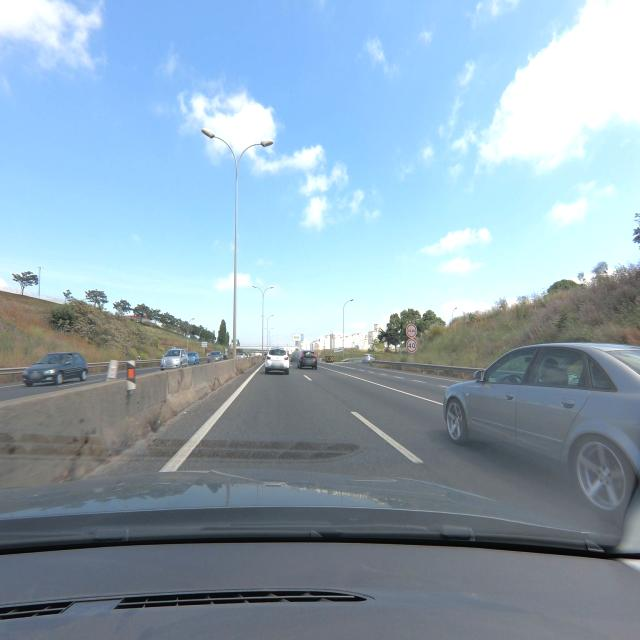car: (442, 341, 640, 514), (21, 351, 89, 387), (264, 347, 290, 375), (159, 348, 188, 371), (297, 350, 318, 370), (206, 350, 223, 362), (187, 351, 200, 365)
